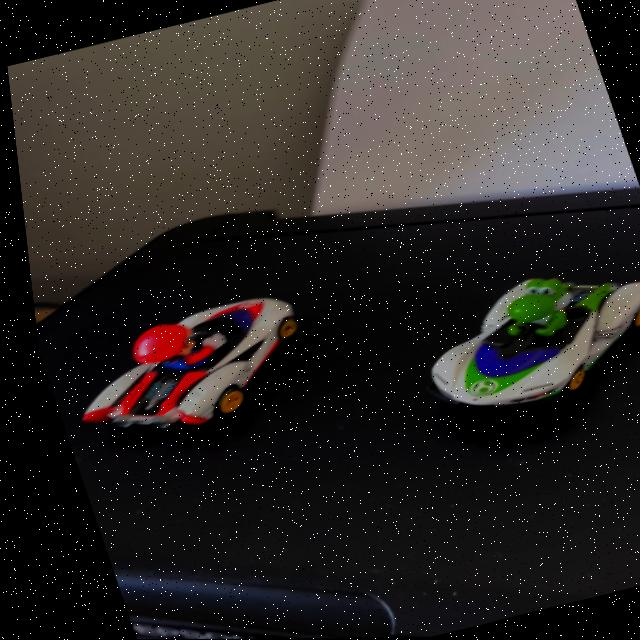mario: (31, 277, 340, 467)
yoshi: (374, 235, 640, 438)
